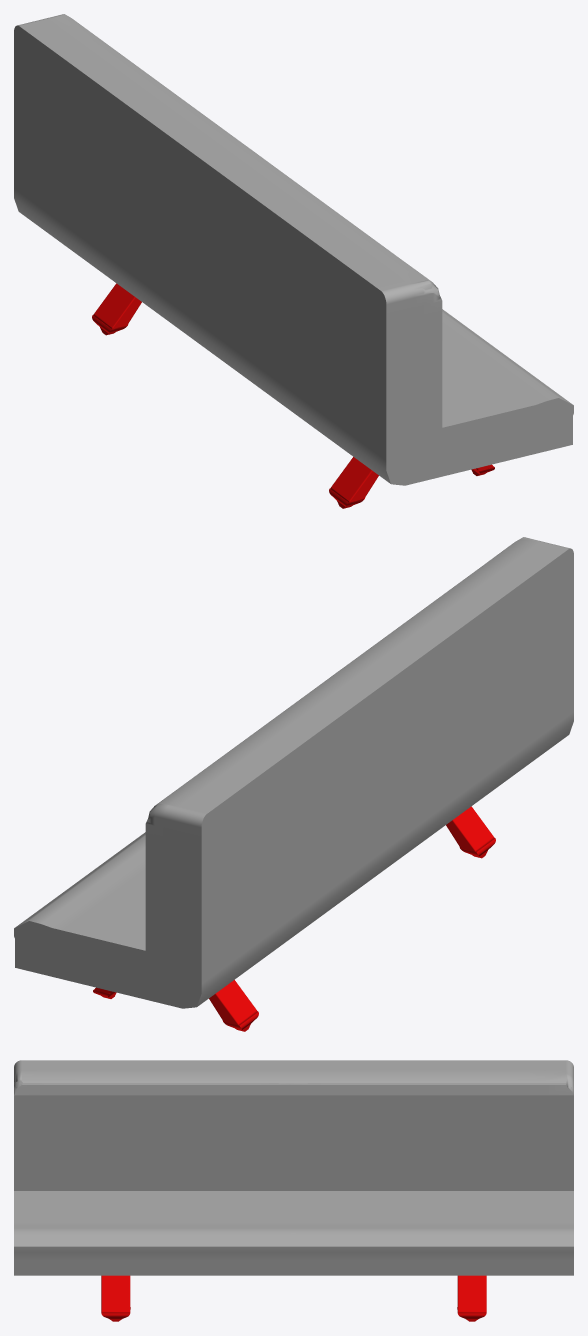
Rendered from BenchFBX.fbx.
3 views of the same model, one above another, from view 1: azimuth 30°, elevation 25°; view 2: azimuth 150°, elevation 25°; view 3: azimuth 270°, elevation 25° (orthographic). The views are drawn at different scales.
Parts seen in each view (by area): view 1: pCube6; view 2: pCube6; view 3: pCube6.
Part boxes in pixels (x1,y1,x2,y2): pCube6: (14,14,573,508); pCube6: (14,537,573,1031); pCube6: (14,1060,573,1321).
Size of the model in its own units: 6.21 by 8.47 by 21.37.
